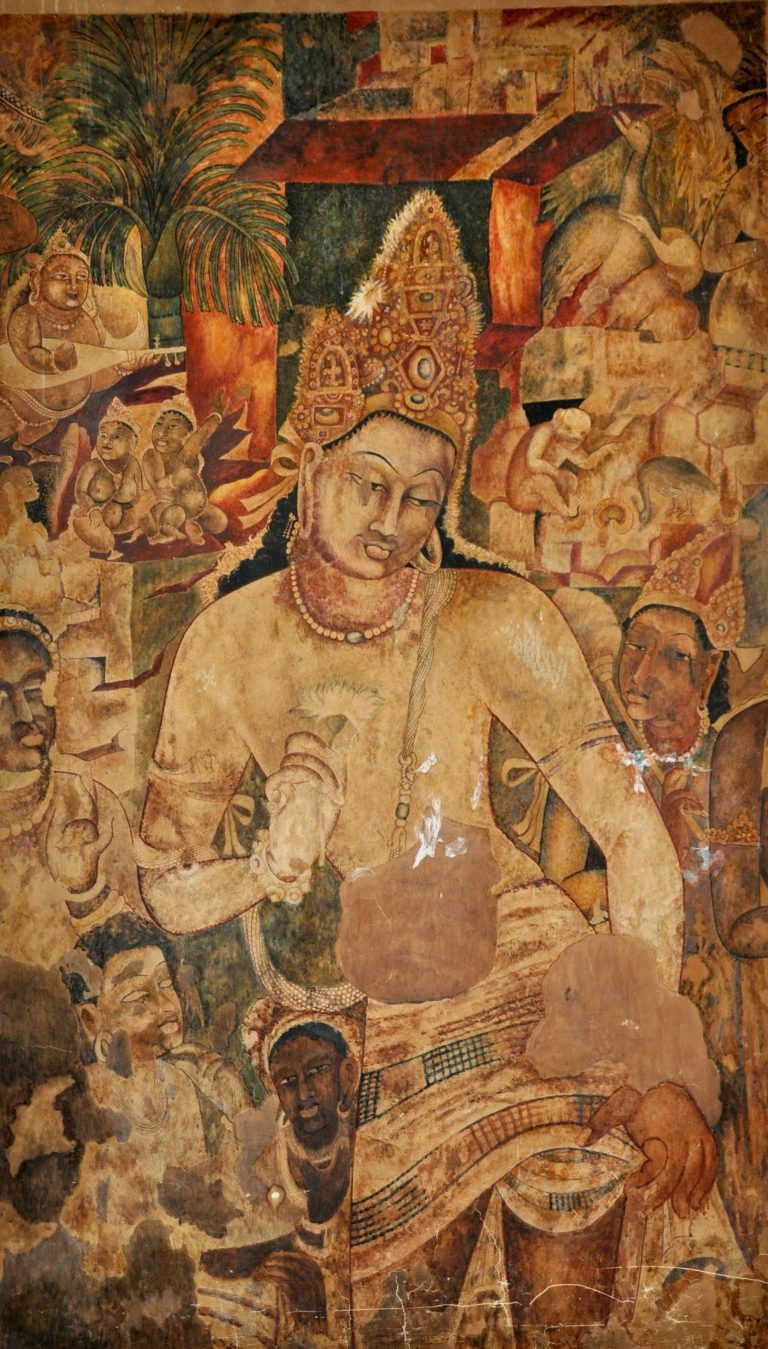Bodhisatva Padampani: (1, 124, 749, 1269)
